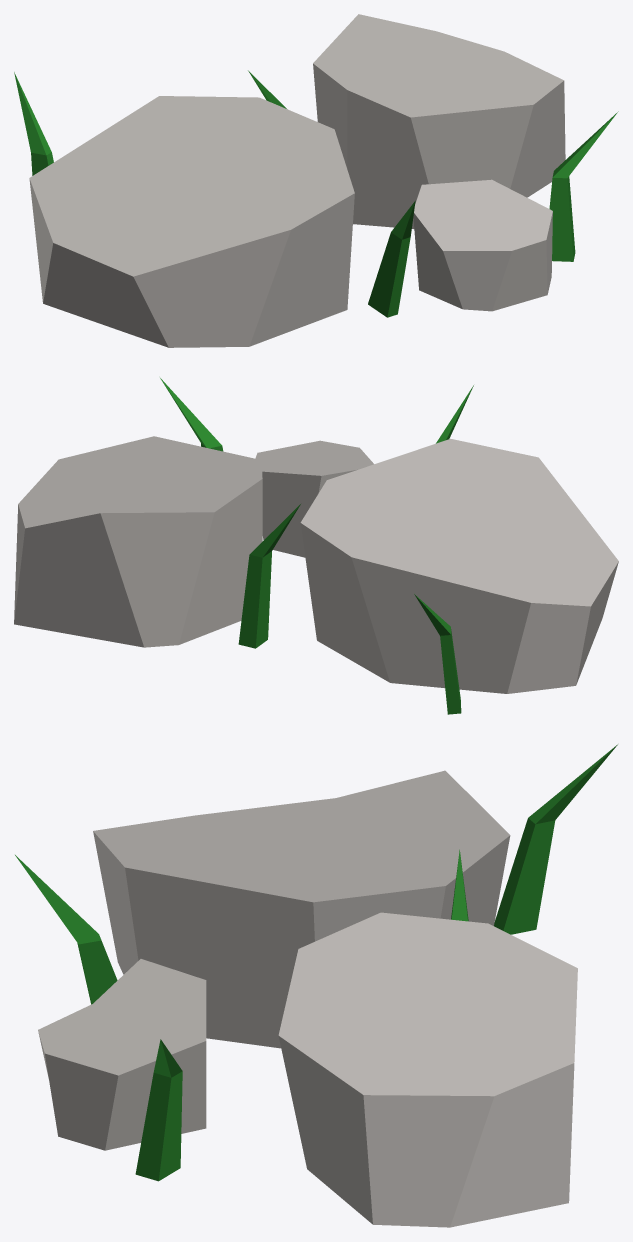
Rendered from zhuangshi_20.FBX.
The picture shows the model from 3 angles, top to bottom: view 1: azimuth 30°, elevation 25°; view 2: azimuth 150°, elevation 25°; view 3: azimuth 270°, elevation 25°; orthographic projection. The views are drawn at different scales.
Visible parts, largest first — view 1: zhuangshi_20; view 2: zhuangshi_20; view 3: zhuangshi_20.
Boxes of the visible parts, x1,y1,x2,y2 form: zhuangshi_20: (14,14,618,347); zhuangshi_20: (14,378,618,714); zhuangshi_20: (15,744,617,1227).
Bounding box in the file's own units: 410 × 111 × 310.
